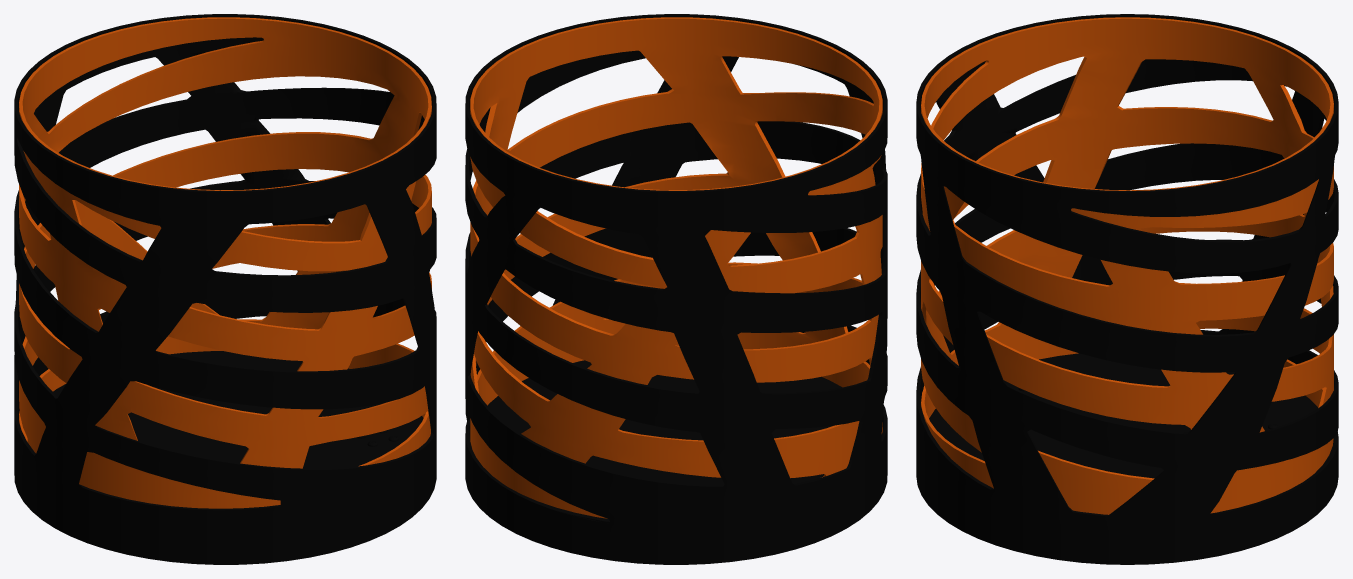
File: kamin.glb
The picture shows the model from 3 angles, left to right: view 1: azimuth 30°, elevation 25°; view 2: azimuth 150°, elevation 25°; view 3: azimuth 270°, elevation 25°; orthographic projection.
Parts seen in each view (by area): view 1: Boole_2, Boole, Cylinder_2_4; view 2: Boole_2, Boole, Cylinder_2_4; view 3: Boole_2, Boole, Cylinder_2_4.
Boxes of the visible parts, x1,y1,x2,y2 form: Boole_2: [14, 14, 436, 564]; Boole: [19, 17, 431, 508]; Cylinder_2_4: [14, 351, 423, 533]; Boole_2: [465, 14, 887, 564]; Boole: [470, 17, 882, 518]; Cylinder_2_4: [469, 360, 887, 533]; Boole_2: [916, 14, 1338, 564]; Boole: [921, 17, 1333, 514]; Cylinder_2_4: [919, 353, 1338, 531].
Size of the model in its own units: 0.04 by 0.04 by 0.04.
